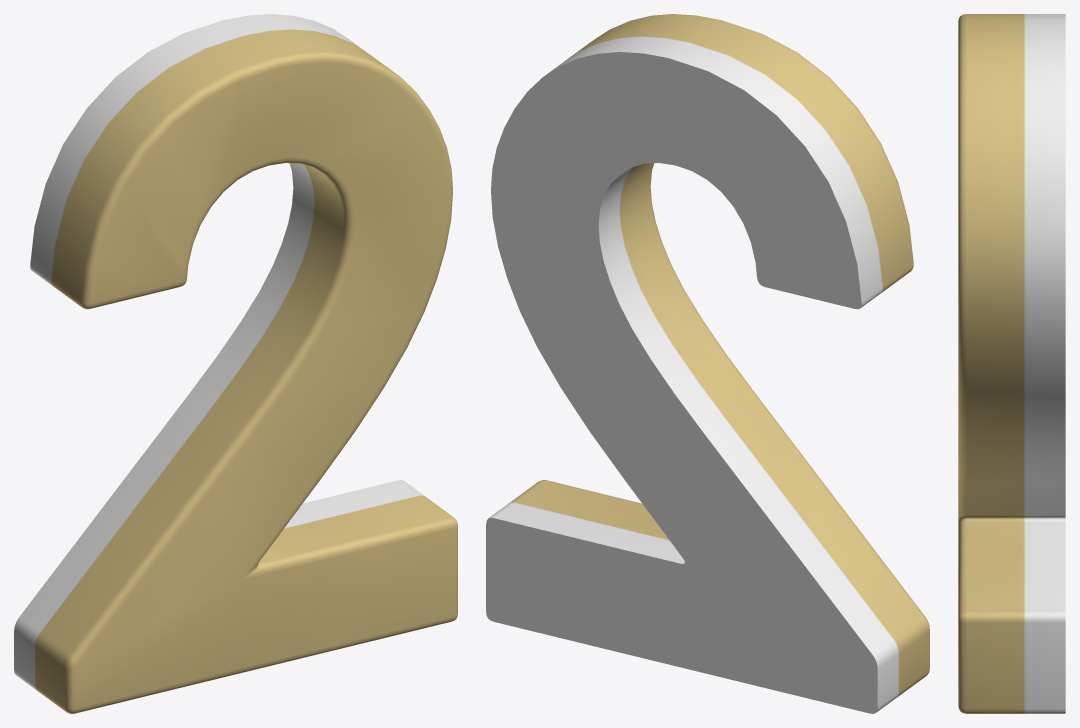
File: LettersLightUp01_2.FBX
The picture shows the model from 3 angles, left to right: view 1: azimuth 30°, elevation 25°; view 2: azimuth 150°, elevation 25°; view 3: azimuth 270°, elevation 25°; orthographic projection. The views are drawn at different scales.
Parts seen in each view (by area): view 1: LettersLightUp01_2; view 2: LettersLightUp01_2; view 3: LettersLightUp01_2.
Boxes of the visible parts, box(x1,y1,x2,y2) form: LettersLightUp01_2: box(14, 14, 457, 713); LettersLightUp01_2: box(486, 14, 929, 713); LettersLightUp01_2: box(958, 14, 1065, 713).
Size of what is drawn, in the model's own units: 0.4159 by 0.6153 by 0.1012.
